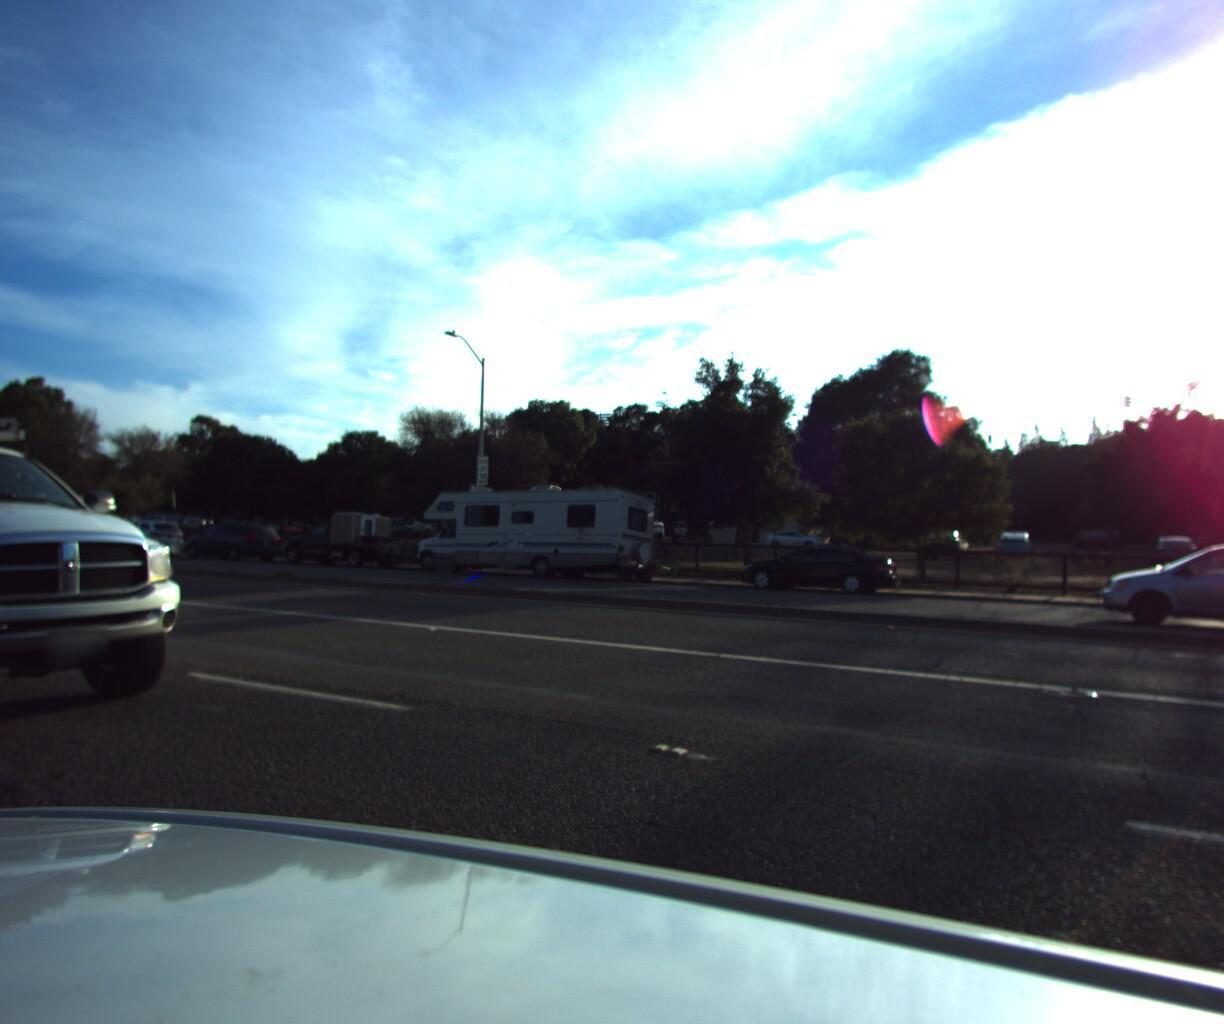car: (0, 351, 242, 789), (1088, 528, 1224, 640), (732, 533, 899, 595), (276, 503, 420, 567), (177, 514, 284, 558), (94, 515, 187, 555)
other_vehicle: (407, 473, 667, 584)
